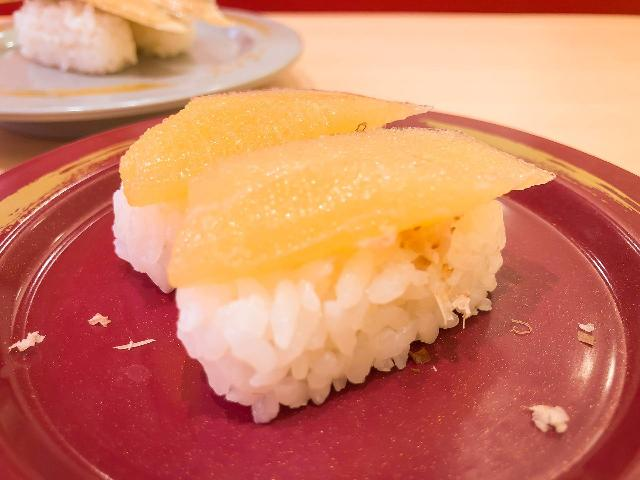janred: (0, 122, 640, 480)
janwhite: (0, 6, 320, 114)
